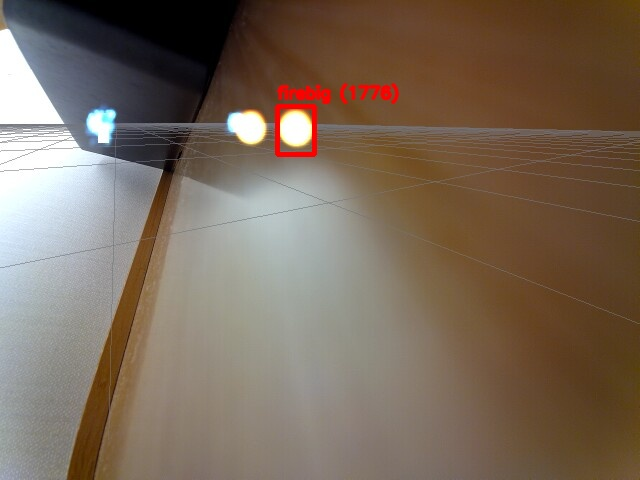firebig: (277, 106, 314, 154)
